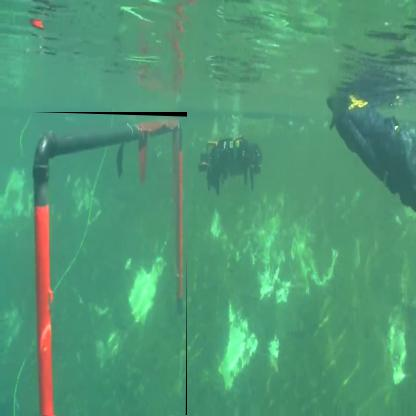gate: (33, 113, 190, 416)
